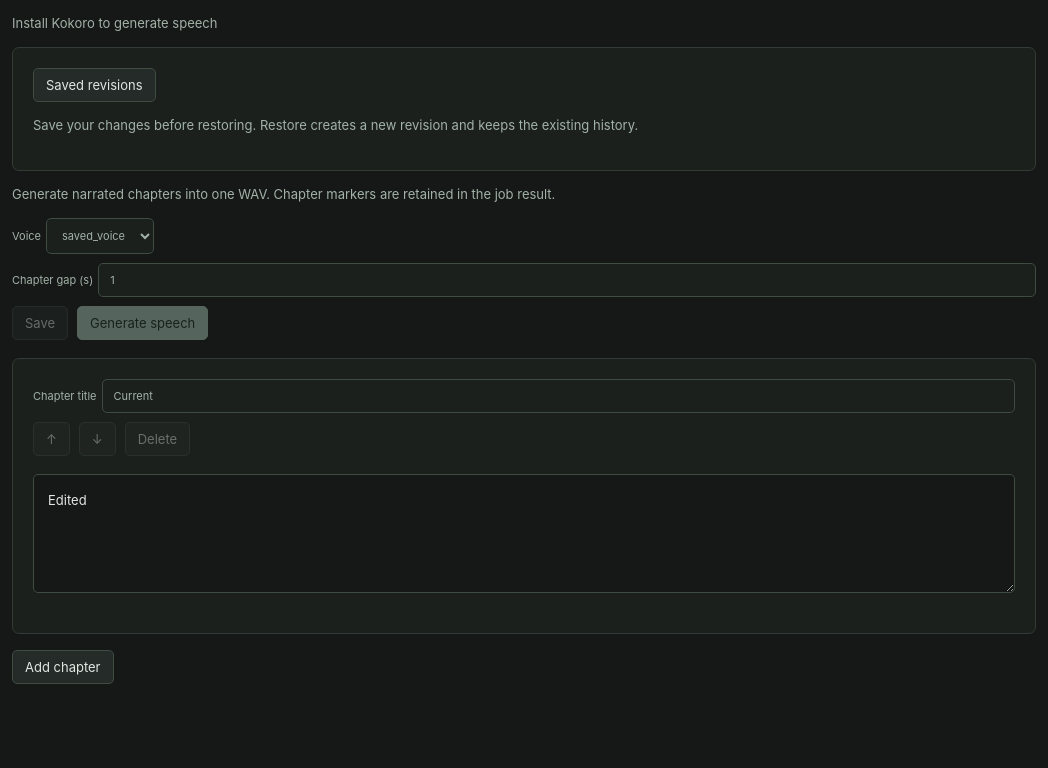
Scenario: restores audiobook history as a new revision without an installed voice
Expected: the field showing "Current" is shown, [102, 379, 1015, 413]
Click the button "Saved revisions".
click(94, 85)  # box [33, 68, 156, 102]
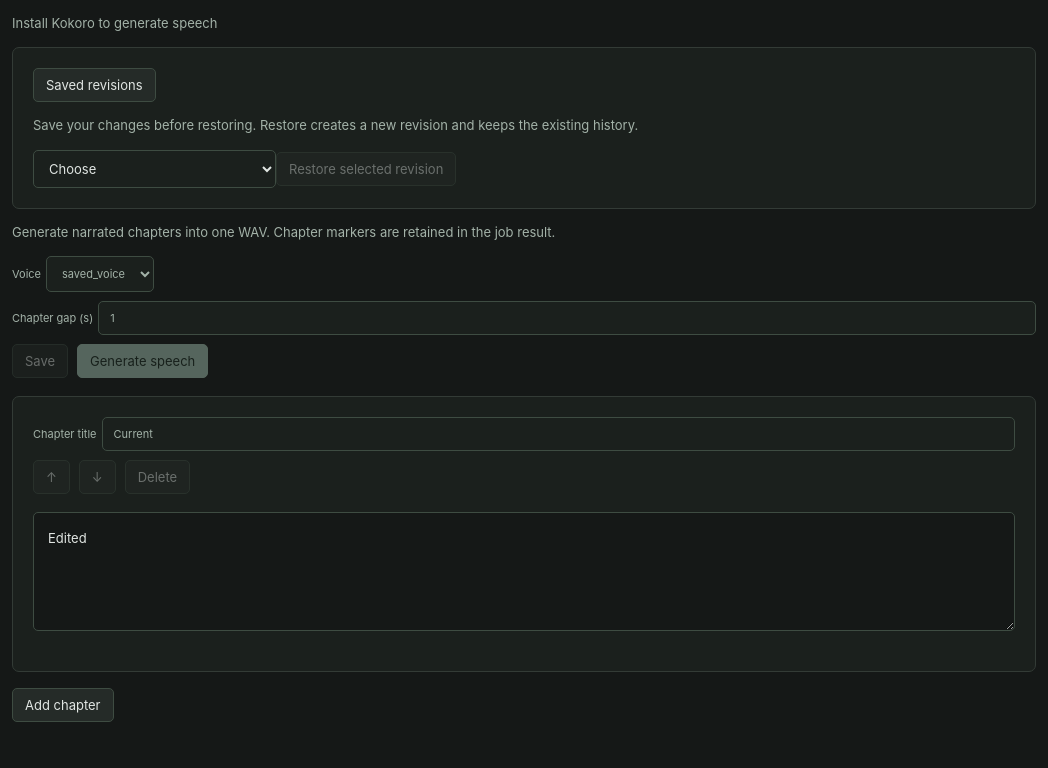
Select "1 · 10/1/2026, 12:00:00 PM · 1 KB" in the dropdown named "Saved revisions" at (154, 169), box [33, 150, 276, 188]
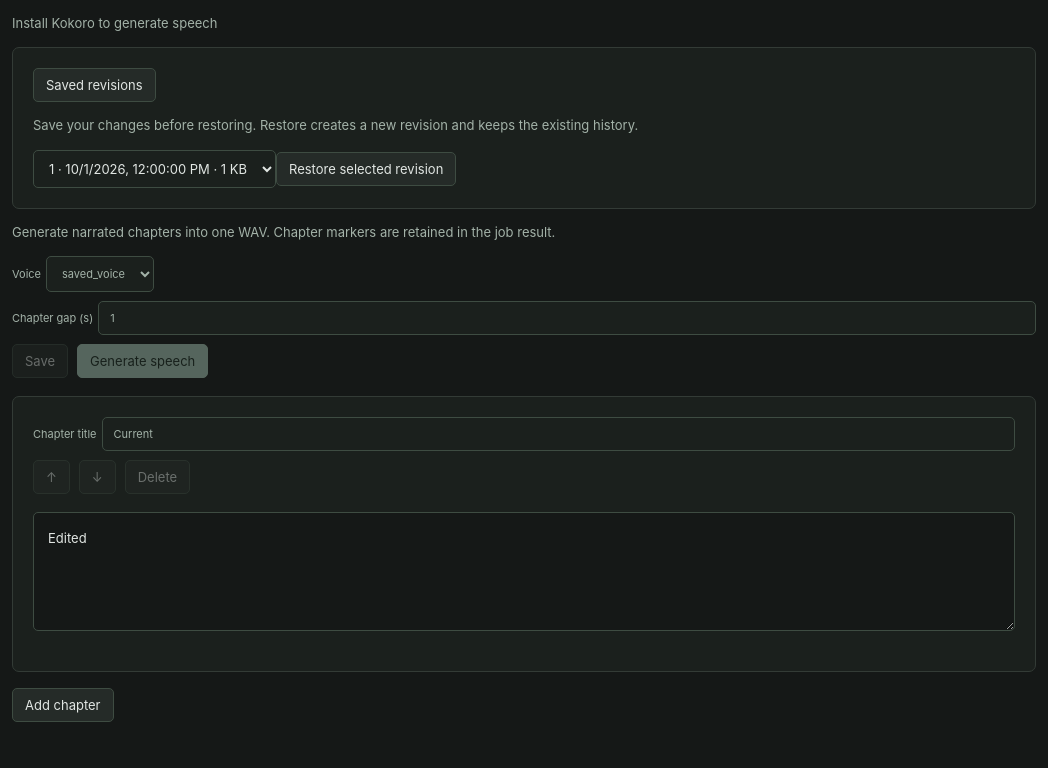
Click the button "Restore selected revision".
click(366, 169)  # box [276, 152, 456, 186]
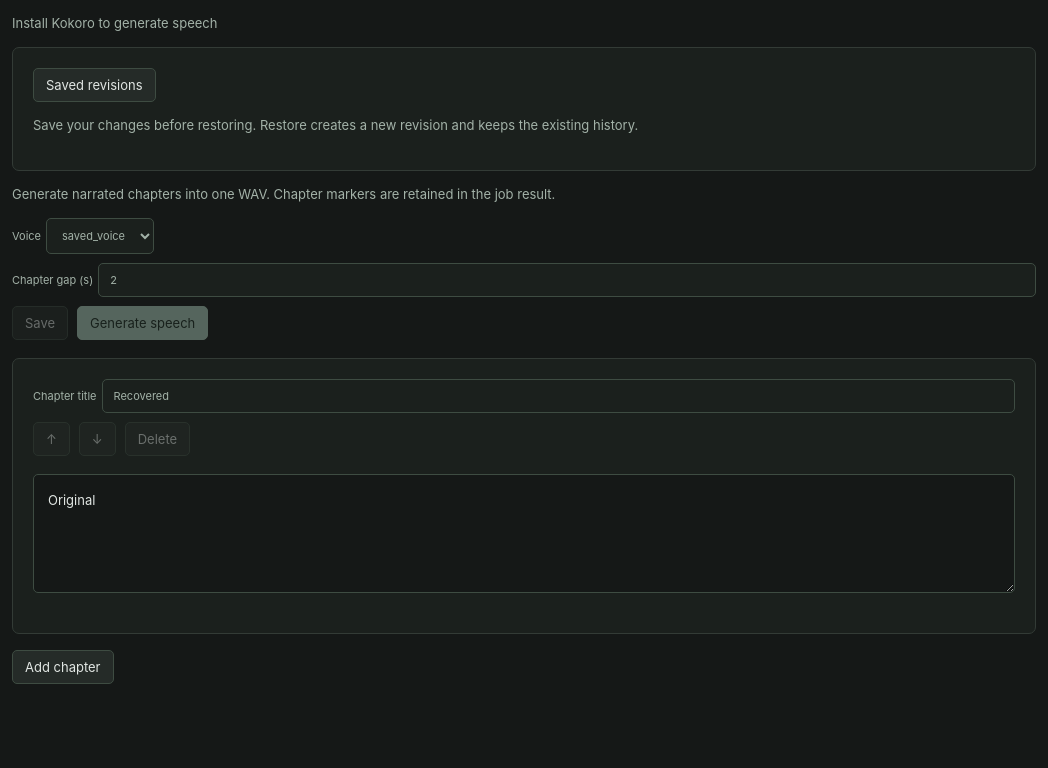
Expected: the field showing "Recovered" is shown, [102, 379, 1015, 413]
